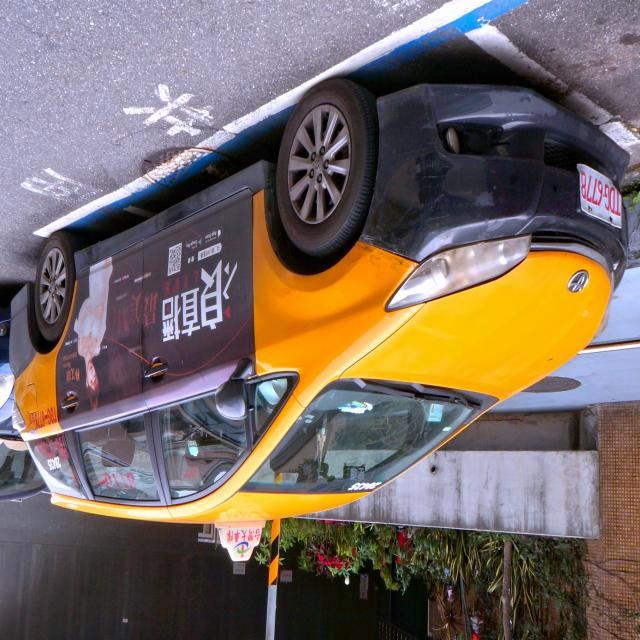taxi: (1, 65, 635, 591)
